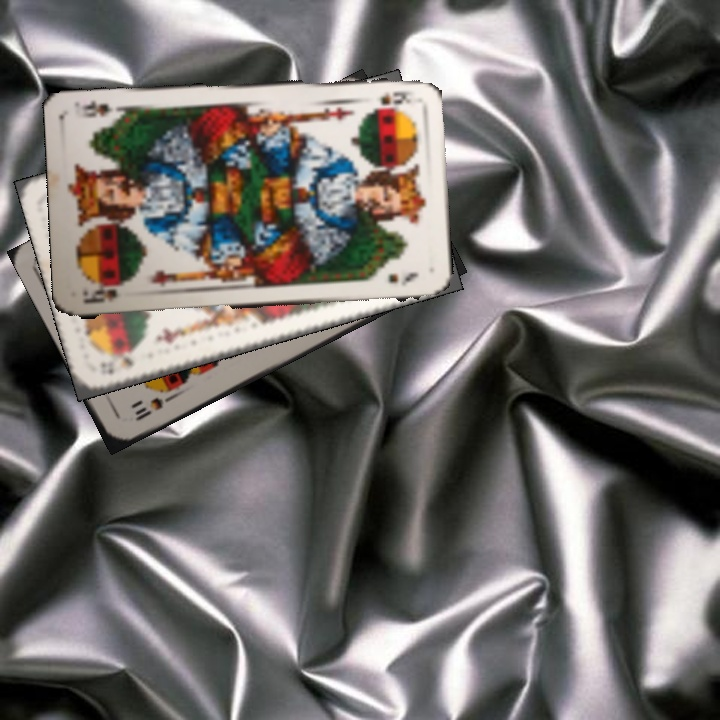S10: (131, 391, 176, 424)
SK: (78, 281, 126, 306), (96, 352, 136, 378), (375, 87, 417, 109)
